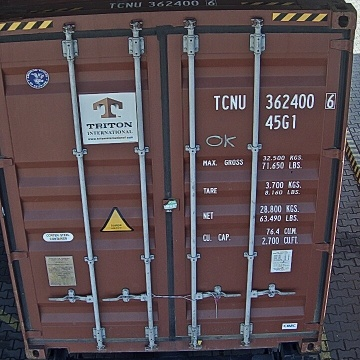serial_id: (214, 94, 336, 109)
